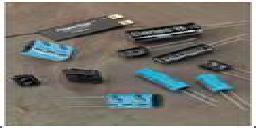Electrolytic-Capacitor: (53, 92, 168, 118), (124, 20, 237, 42), (16, 39, 79, 64), (134, 67, 188, 94), (64, 63, 110, 86), (195, 73, 233, 99), (9, 73, 43, 89), (199, 58, 241, 70)
